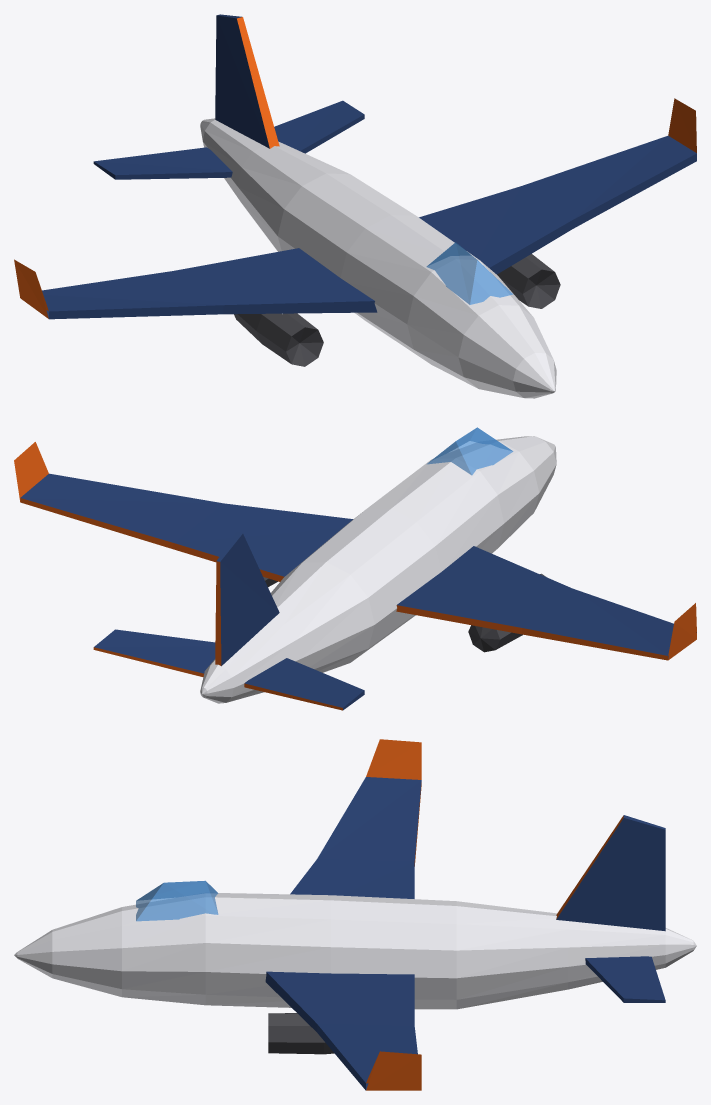
Rendered from airplane.obj.
3 views of the same model, one above another, from view 1: azimuth 30°, elevation 25°; view 2: azimuth 150°, elevation 25°; view 3: azimuth 270°, elevation 25° (orthographic). The views are drawn at different scales.
Parts seen in each view (by area): view 1: Wing_Navy, Fuselage_White, Engine_Chrome, Trim_Orange, Cockpit_Glass; view 2: Wing_Navy, Fuselage_White, Trim_Orange, Cockpit_Glass, Engine_Chrome; view 3: Fuselage_White, Wing_Navy, Trim_Orange, Cockpit_Glass, Engine_Chrome.
Part boxes in pixels (x1,y1,x2,y2): Wing_Navy: (42, 14, 696, 319); Fuselage_White: (200, 118, 556, 398); Engine_Chrome: (234, 254, 560, 366); Trim_Orange: (14, 17, 696, 318); Cockpit_Glass: (426, 242, 512, 304); Wing_Navy: (20, 473, 696, 710); Fuselage_White: (200, 436, 556, 703); Trim_Orange: (14, 442, 696, 710); Cockpit_Glass: (427, 427, 513, 475); Engine_Chrome: (263, 573, 545, 652); Fuselage_White: (14, 893, 696, 1009); Wing_Navy: (265, 777, 665, 1090); Trim_Orange: (366, 739, 623, 1090); Cockpit_Glass: (136, 880, 218, 921); Engine_Chrome: (268, 1013, 334, 1054).
Bounding box in the file's own units: 10.6 × 2.98 × 9.8.
